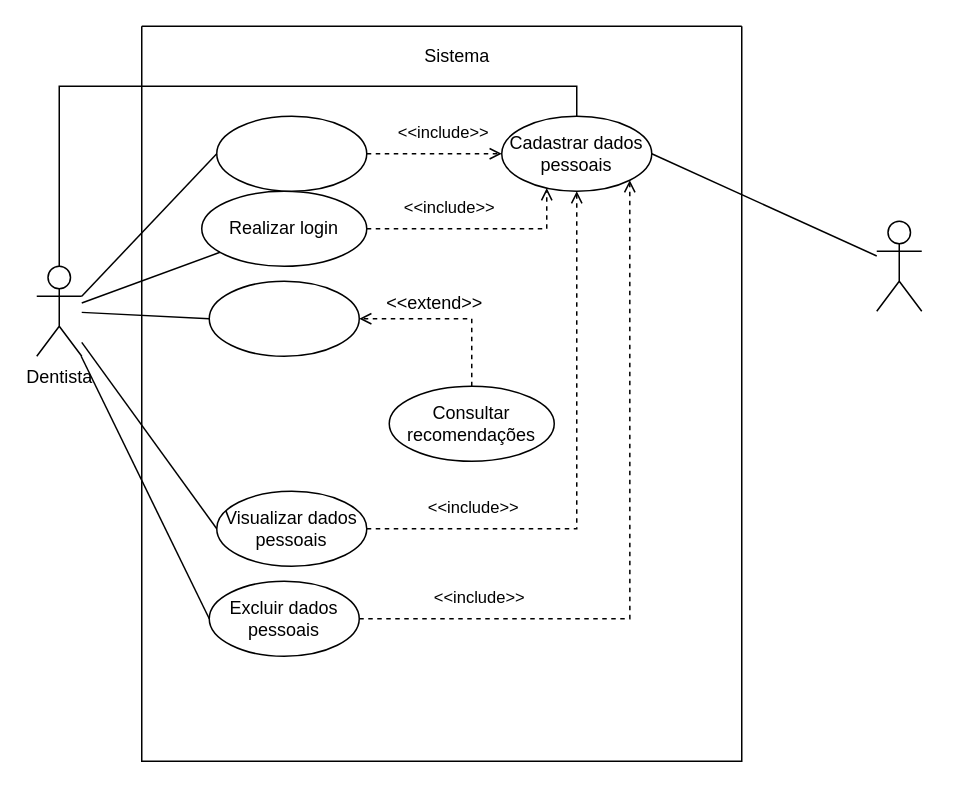
Some shapes in this 960 by 788 pixel diagram are drawn without their labels. The shapes that lost their labels are listed below. From the top down, each one's centre as x and y in pixels, then its label:
the point at 291,153: Alterar dados pessoais
the point at 898,265: Paciente
the point at 283,318: Buscar paciente
